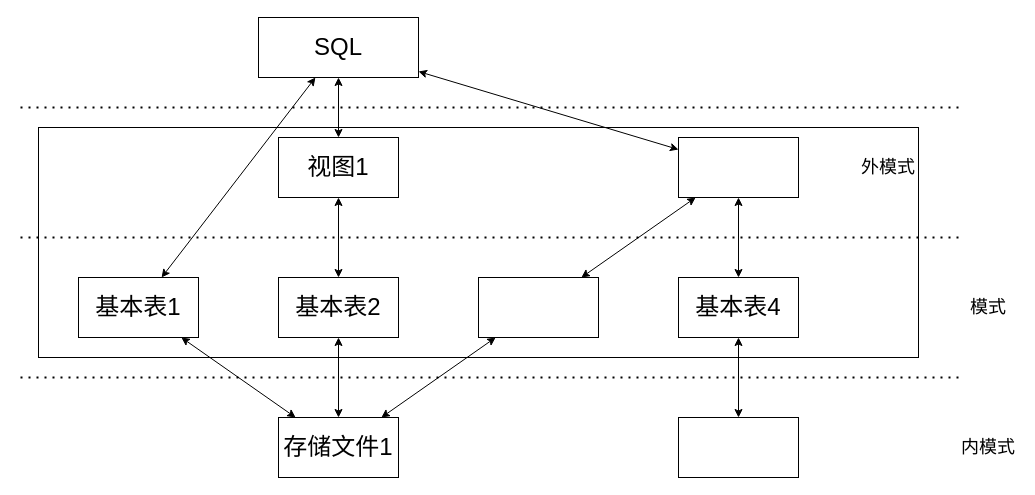
Image size: 1035x495. Some labels were removed from this diagram. Here are the shapes that lost their labels. From the top down, the box of each, then its label:
(678, 136, 798, 198): 视图2
(478, 276, 598, 338): 基本表3
(678, 416, 798, 478): 存储文件2
